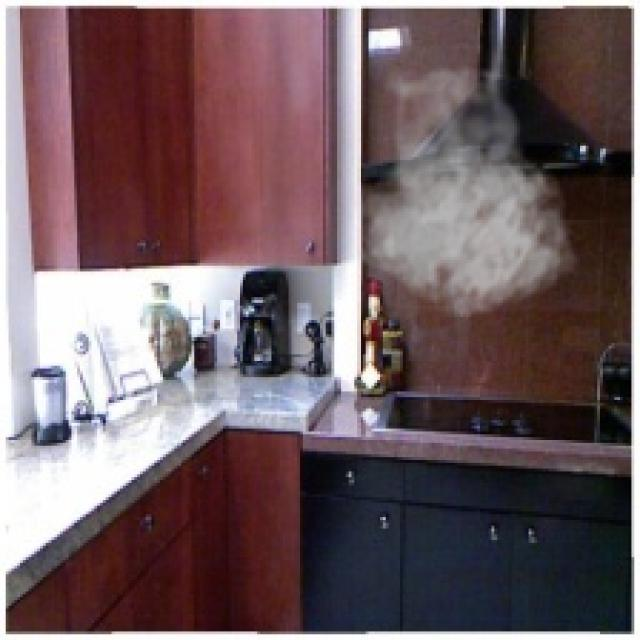smoke: (343, 46, 580, 320)
